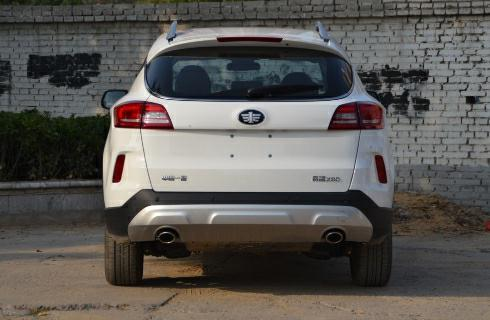奔腾-X80: (90, 19, 399, 290)
